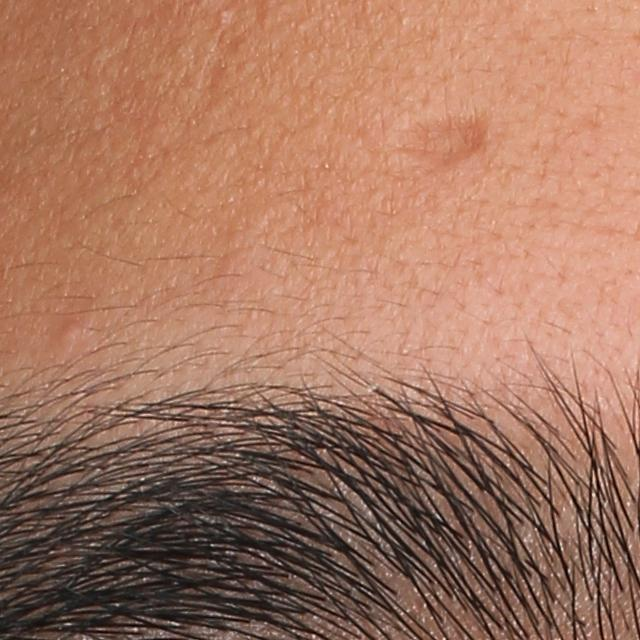atrophic_scar: (388, 114, 492, 176)
comedo: (55, 322, 83, 349), (215, 7, 233, 24)
